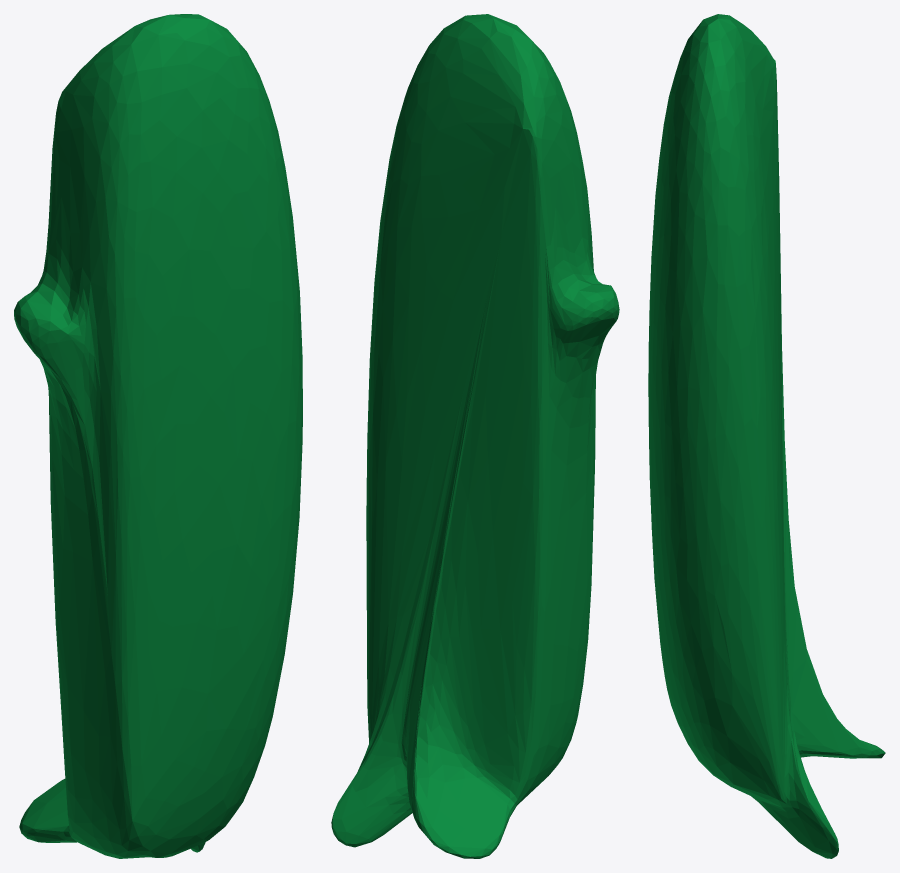
The picture shows the model from 3 angles, left to right: view 1: azimuth 30°, elevation 25°; view 2: azimuth 150°, elevation 25°; view 3: azimuth 270°, elevation 25°; orthographic projection. The views are drawn at different scales.
Parts seen in each view (by area): view 1: 236_Cube.972; view 2: 236_Cube.972; view 3: 236_Cube.972.
Boxes of the visible parts, <box> form: 236_Cube.972: <box>14,14,302,858</box>; 236_Cube.972: <box>331,14,619,858</box>; 236_Cube.972: <box>648,14,885,858</box>.
Size of the model in its own units: 3.78 by 12.12 by 3.26.
